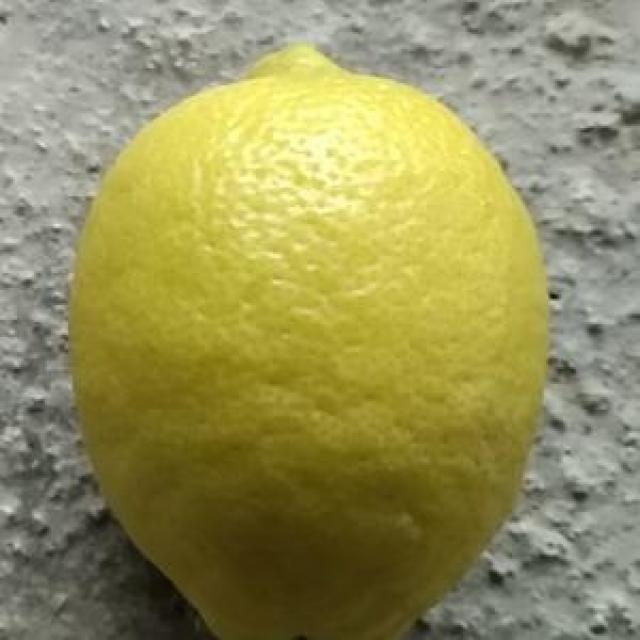lemon: (68, 46, 549, 640)
